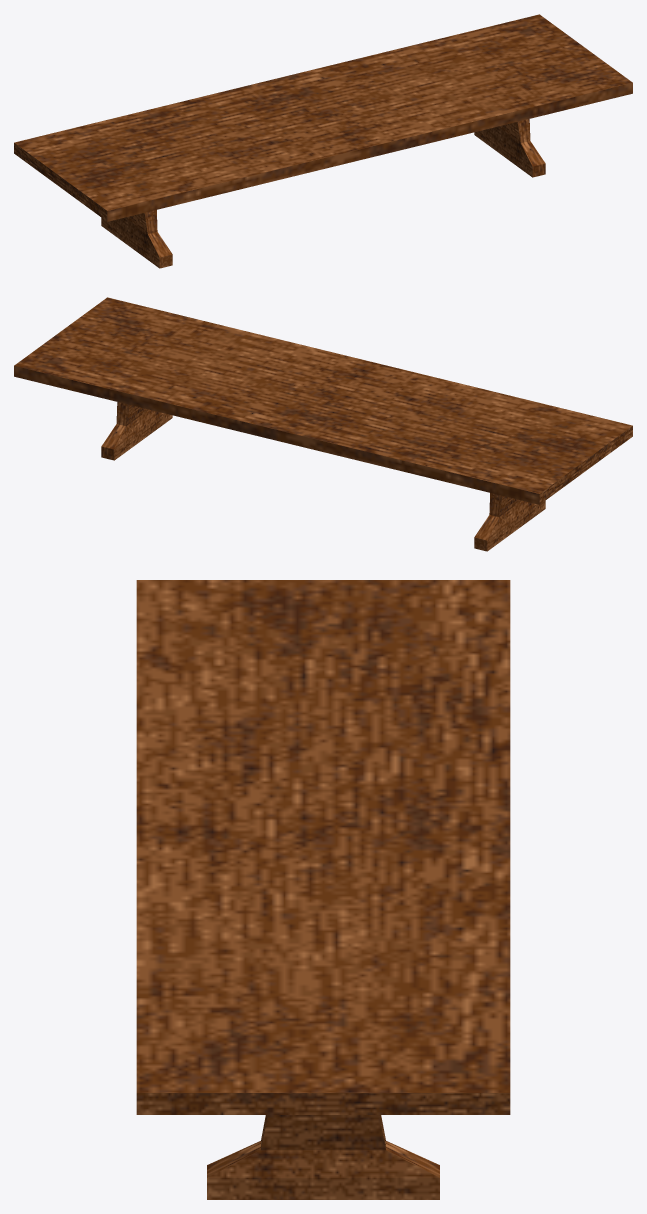
File: SM_Dungeon_Table_Long.fbx
3 views of the same model, one above another, from view 1: azimuth 30°, elevation 25°; view 2: azimuth 150°, elevation 25°; view 3: azimuth 270°, elevation 25° (orthographic). The views are drawn at different scales.
Visible parts, largest first — view 1: SM_Dungeon_Table_Long; view 2: SM_Dungeon_Table_Long; view 3: SM_Dungeon_Table_Long.
Part boxes in pixels (bbox=[...]): SM_Dungeon_Table_Long: bbox=[14, 14, 632, 268]; SM_Dungeon_Table_Long: bbox=[14, 297, 632, 551]; SM_Dungeon_Table_Long: bbox=[136, 580, 510, 1199].
Size of the model in its own units: 530 by 84.26 by 163.
